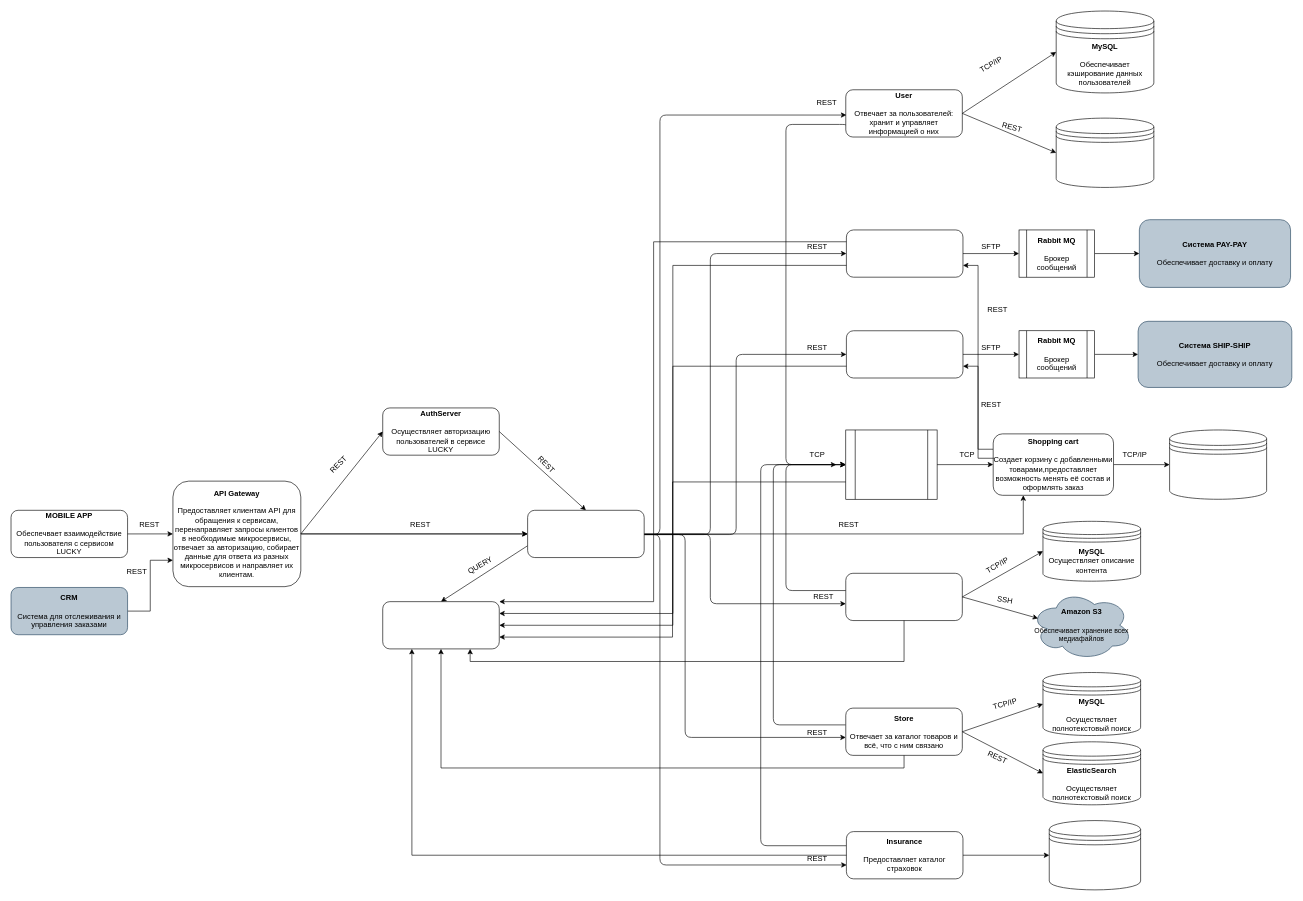
Image size: 1303x901. Some labels were removed from this diagram. Each missing label, with the box of its shape:
Films Обеспечивает просмотр разного рода контента про животных: (845, 573, 962, 621)
Kafka Обеспечивает обмен сообщениями между сервисами: (845, 429, 937, 499)
Load Balancer компонент системы, равномерно распределяет запросы по экземплярам.: (527, 510, 644, 558)
MongoDB Обеспечивает хранение контента: (1049, 820, 1141, 890)
MySQL Хранит список заказов: (1169, 429, 1267, 499)
Payment Обеспечивает оформление доставки и оплаты заказа: (846, 229, 963, 277)
Redis Обеспечивает кэширование: (1056, 117, 1154, 187)
Service Registry Содержатся записи о всех экземплярах сервисов и их адреса: (382, 601, 499, 649)
Shipping Оформление и управление доставкой заказов: (846, 330, 963, 378)
